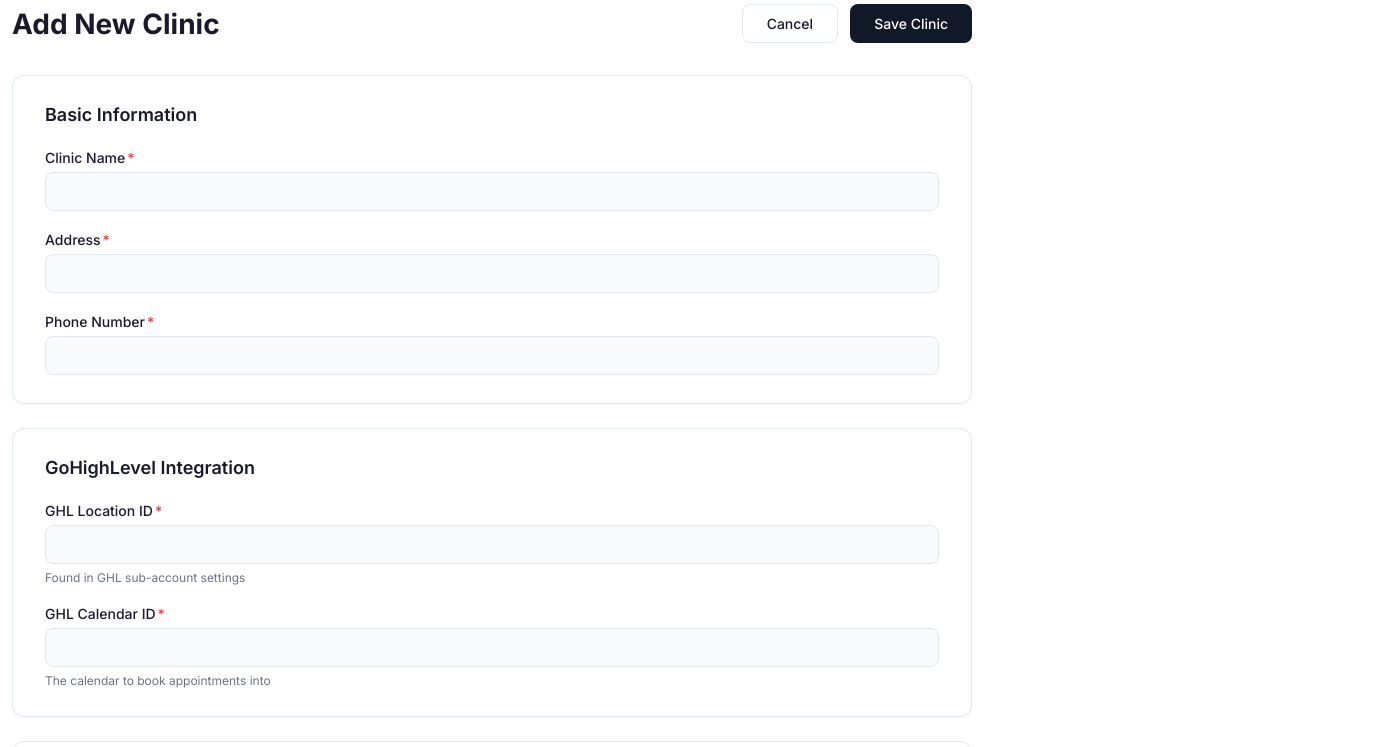
AddClinicPage › should show all required field errors when form is empty
Click the button "Save Clinic": coordinates (911, 24) [850,4,972,43]
(page scrolled)
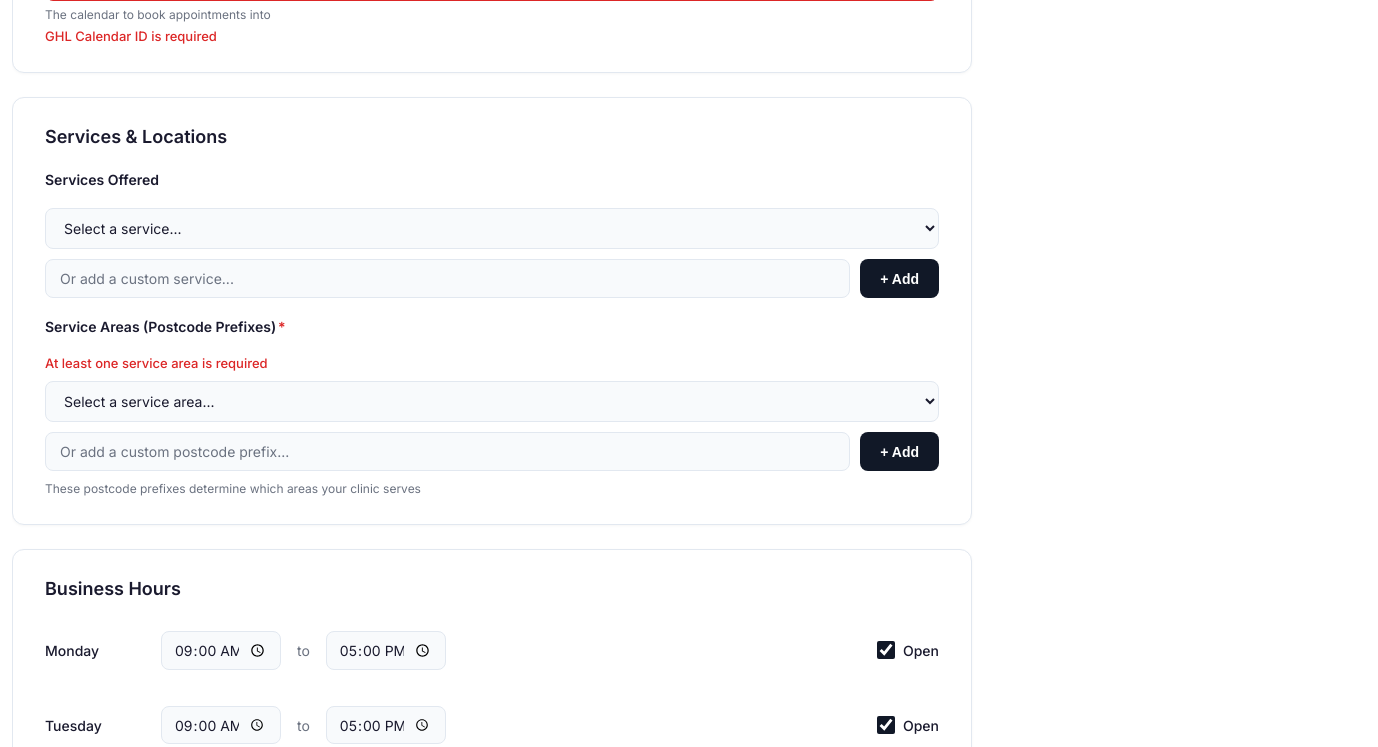
Now the text "GHL Calendar ID is required" is shown, box [45,28,217,44]
Now the text "At least one service area is required" is shown, box [45,355,268,371]
